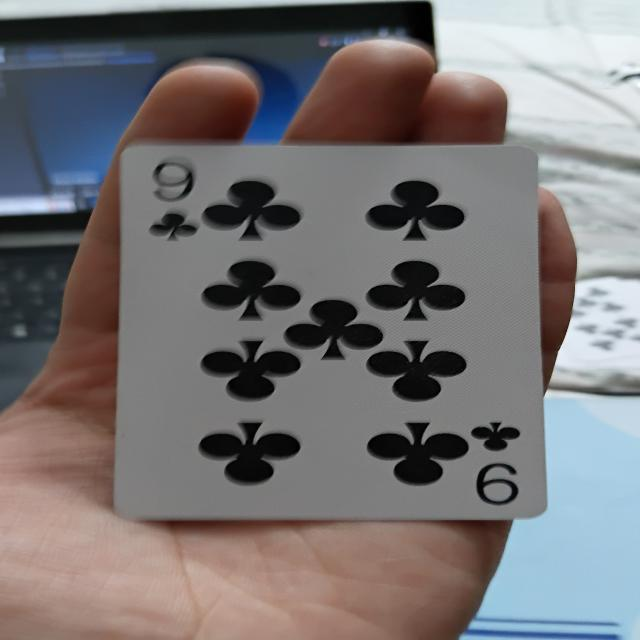9C: (111, 133, 564, 530)
